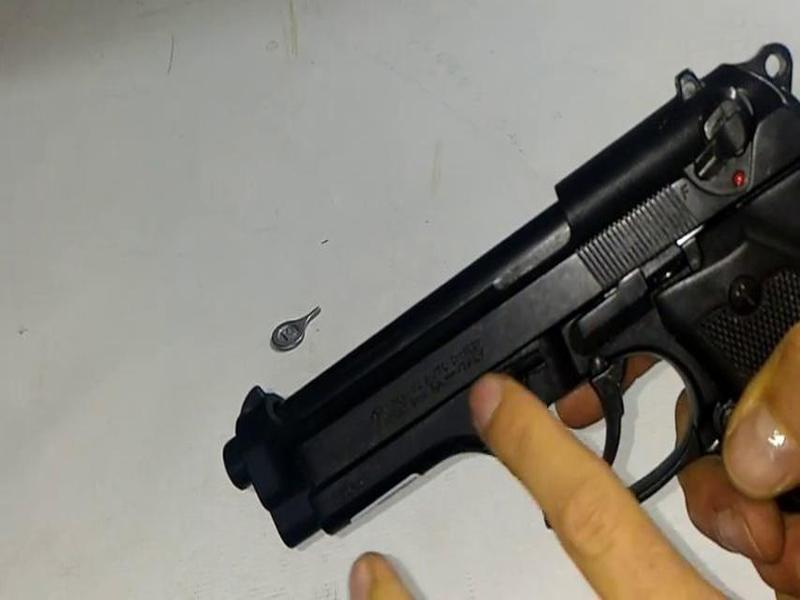Pistola: (198, 50, 800, 556)
